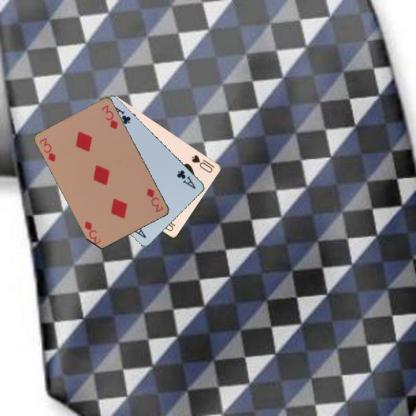10s: (189, 152, 214, 174)
3d: (144, 185, 165, 214), (37, 135, 57, 164)
Ac: (175, 167, 197, 190)
